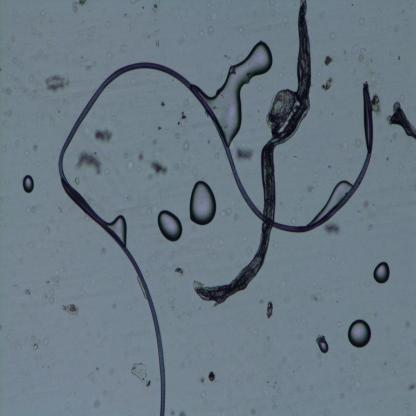Air bubble: (205, 21, 271, 140), (316, 175, 350, 218), (189, 180, 217, 226), (157, 209, 183, 243), (347, 318, 372, 349), (110, 214, 127, 243), (372, 260, 391, 283), (21, 172, 35, 195), (314, 335, 329, 354)
Background material: (72, 148, 104, 176), (38, 264, 60, 304), (130, 361, 153, 386), (61, 297, 82, 318), (234, 145, 255, 162), (368, 96, 384, 118), (44, 76, 66, 92), (150, 157, 168, 176), (318, 76, 335, 94), (324, 222, 343, 238), (94, 127, 114, 141), (68, 0, 87, 13), (308, 290, 325, 304), (152, 0, 162, 22), (113, 40, 127, 54), (338, 139, 351, 154), (21, 204, 38, 215), (167, 297, 178, 314), (265, 300, 274, 320), (173, 264, 185, 278), (9, 134, 20, 149), (205, 11, 221, 21), (327, 27, 337, 43), (82, 59, 94, 72), (114, 274, 125, 288), (358, 46, 367, 62), (20, 285, 32, 296), (168, 409, 186, 416), (350, 43, 359, 57), (219, 207, 230, 218), (125, 159, 135, 171), (0, 117, 9, 130), (38, 3, 46, 17), (178, 110, 188, 121), (248, 405, 258, 416), (90, 400, 101, 410), (324, 54, 332, 67), (334, 318, 343, 329), (181, 140, 190, 151), (207, 371, 216, 382), (282, 14, 288, 30), (44, 36, 52, 48), (32, 140, 40, 152), (88, 374, 96, 386), (159, 95, 167, 106), (153, 41, 162, 50), (100, 247, 108, 257), (104, 20, 112, 30), (136, 152, 146, 160), (358, 16, 365, 27), (122, 149, 129, 160), (365, 222, 374, 230), (407, 382, 416, 390), (57, 205, 64, 215), (199, 374, 206, 384), (32, 344, 40, 352), (364, 201, 371, 210), (7, 86, 13, 96), (12, 55, 18, 65), (32, 30, 40, 37), (200, 392, 207, 400), (73, 177, 80, 185), (15, 344, 22, 352), (233, 212, 240, 220), (214, 153, 221, 161), (155, 125, 163, 132), (38, 174, 43, 185), (336, 275, 342, 284), (42, 227, 48, 236), (44, 337, 49, 347), (6, 111, 14, 117), (0, 134, 6, 142), (198, 30, 204, 38), (129, 0, 136, 6), (24, 151, 30, 158), (36, 161, 41, 169), (112, 302, 116, 311), (404, 321, 410, 327), (2, 151, 8, 156), (209, 28, 214, 34), (122, 12, 128, 17), (352, 70, 357, 76), (42, 188, 47, 193), (258, 300, 264, 304), (141, 5, 144, 10), (22, 64, 24, 71), (267, 336, 270, 340)
Cellulose filter fibre: (194, 0, 312, 307), (386, 100, 416, 140)
Microfibre: (54, 59, 376, 415)
